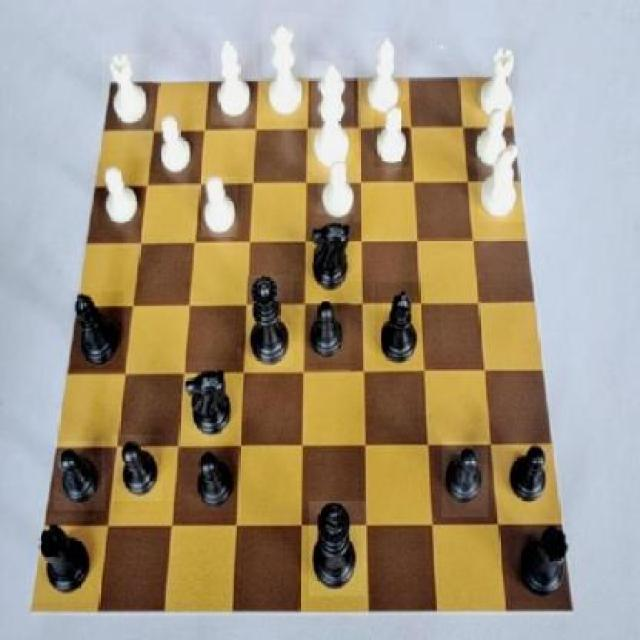bishop: (71, 292, 124, 370), (376, 283, 424, 368)
black-bishop: (309, 500, 366, 596)
black-king: (180, 363, 236, 443), (309, 214, 354, 298)
black-knight: (502, 438, 550, 512), (442, 440, 488, 517), (54, 442, 104, 512), (189, 446, 240, 512), (112, 436, 162, 502), (306, 302, 351, 372)
black-pawn: (248, 275, 294, 368)
black-queen: (32, 516, 95, 602), (511, 523, 575, 600)
black-rook: (211, 40, 257, 125), (363, 32, 405, 122)
white-bishop: (311, 60, 354, 177)
white-king: (478, 138, 526, 222)
white-knight: (99, 160, 143, 231), (158, 111, 200, 178), (318, 160, 361, 223), (475, 108, 513, 170), (200, 176, 238, 237), (374, 103, 409, 169)
white-pawn: (263, 14, 308, 120)
white-queen: (103, 54, 154, 134), (475, 38, 518, 122)
